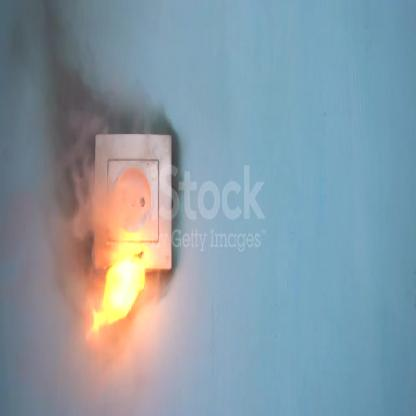fire: (93, 258, 148, 333)
smoke: (0, 0, 179, 416)
